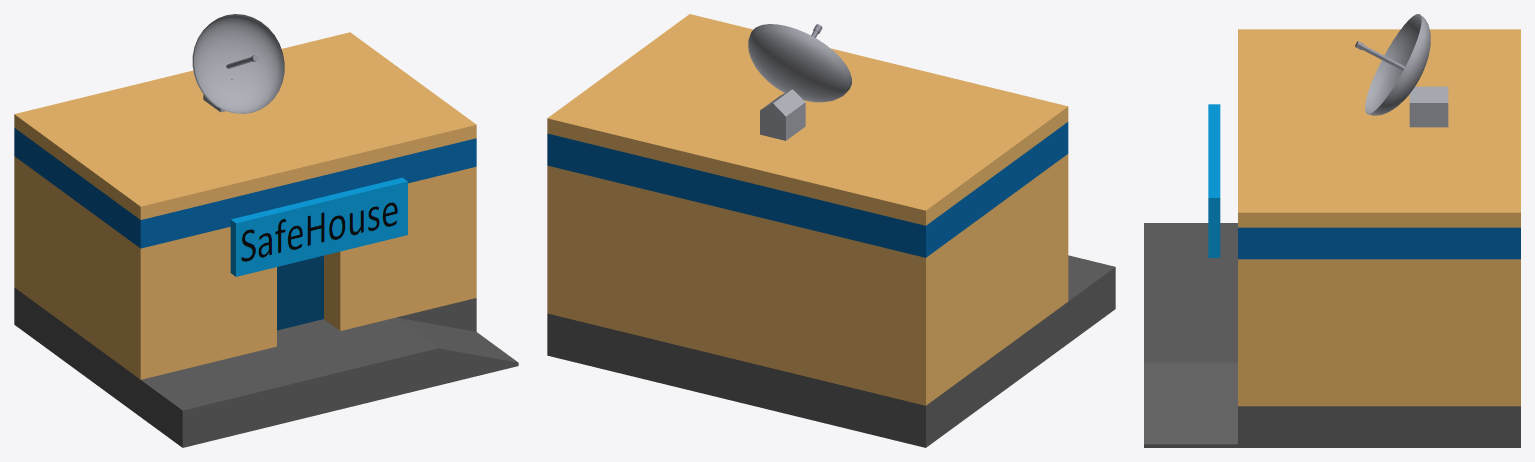
The model's file is SafeHouse.fbx.
The picture shows the model from 3 angles, left to right: view 1: azimuth 30°, elevation 25°; view 2: azimuth 150°, elevation 25°; view 3: azimuth 270°, elevation 25°; orthographic projection. The views are drawn at different scales.
Visible parts, largest first — view 1: Cube.001, Cube.002, Cube, Icosphere.006; view 2: Cube.001, Cube.002, Icosphere.006; view 3: Cube.001, Cube.002, Icosphere.006, Cube.
Part boxes in pixels (x1,y1,x2,y2): Cube.001: (14,32,476,379); Cube.002: (14,287,518,447); Cube: (230,177,407,276); Icosphere.006: (192,14,284,113); Cube.001: (547,14,1068,405); Cube.002: (547,255,1115,447); Icosphere.006: (748,24,851,140); Cube.001: (1238,29,1520,406); Cube.002: (1144,223,1520,447); Icosphere.006: (1355,14,1448,127); Cube: (1208,104,1220,257).
Size of the model in its own units: 768 by 657 by 667.
